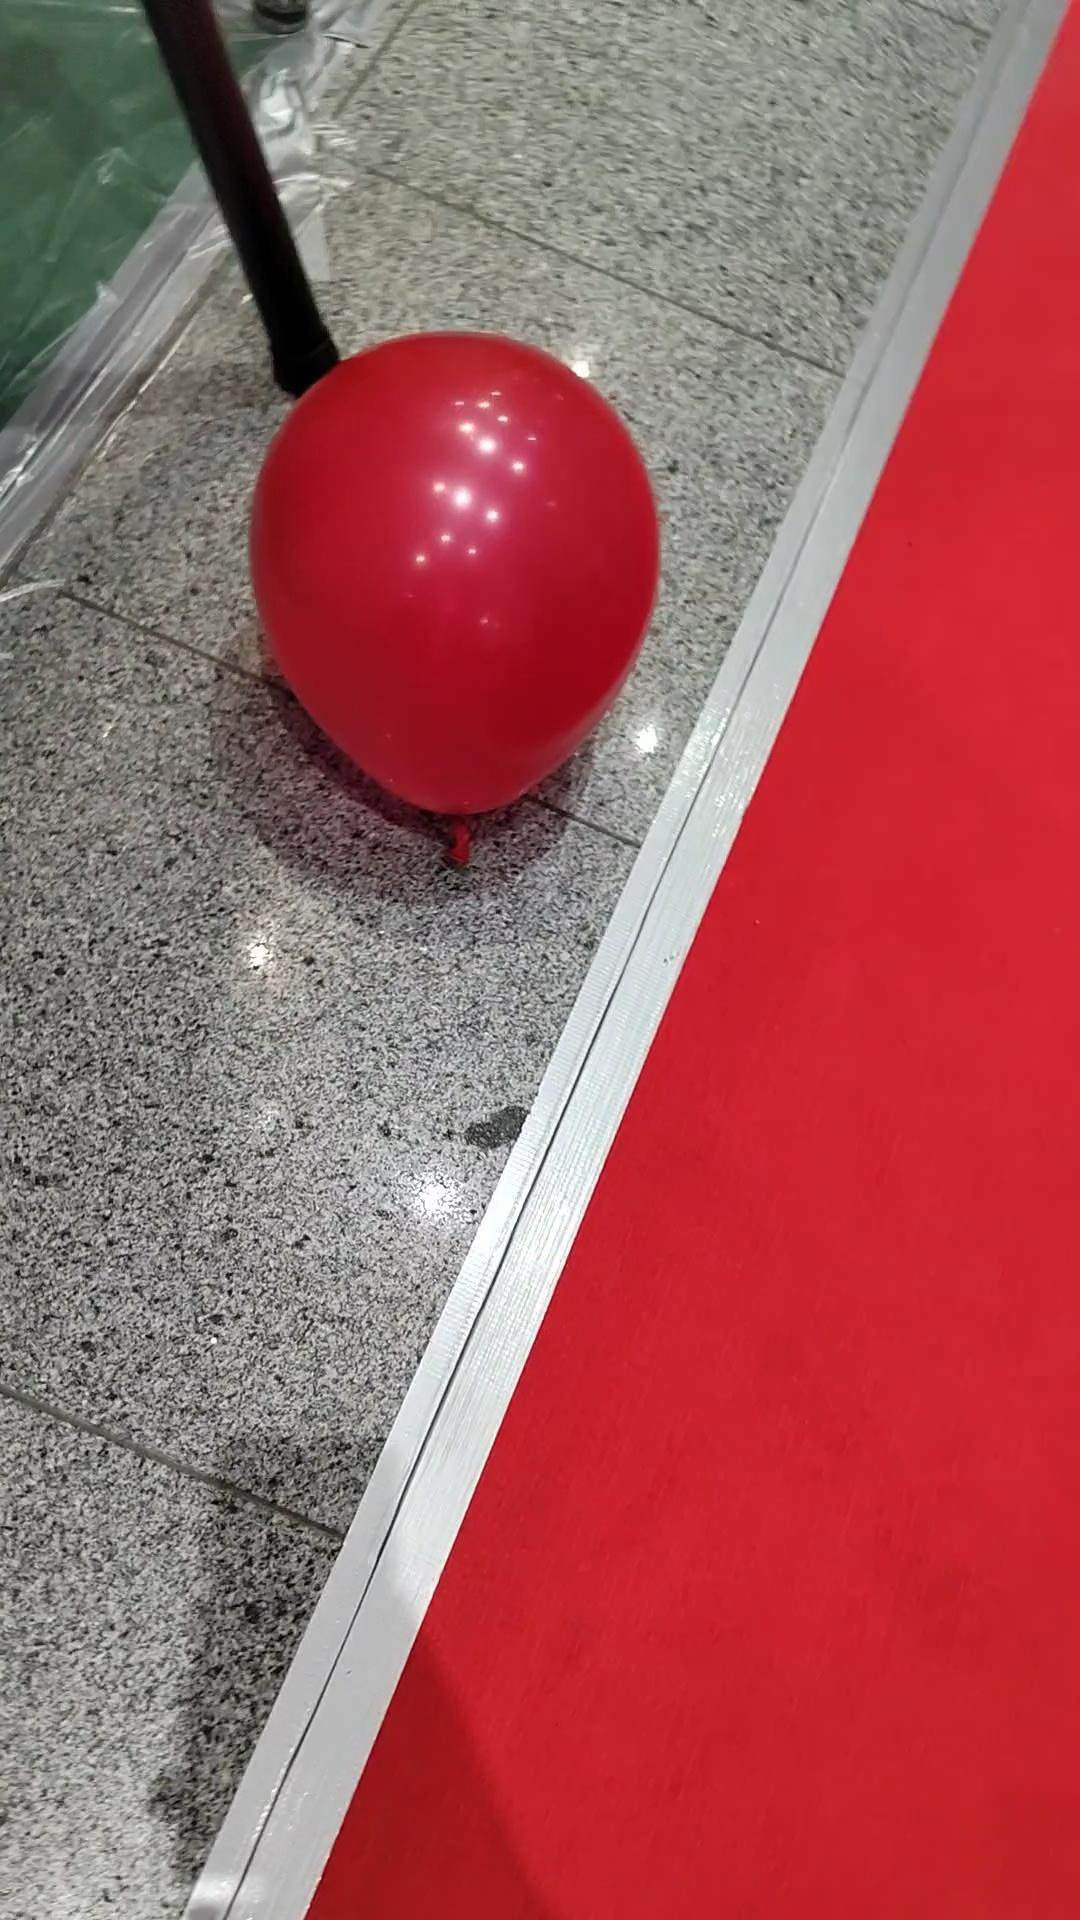red: (247, 334, 661, 829)
